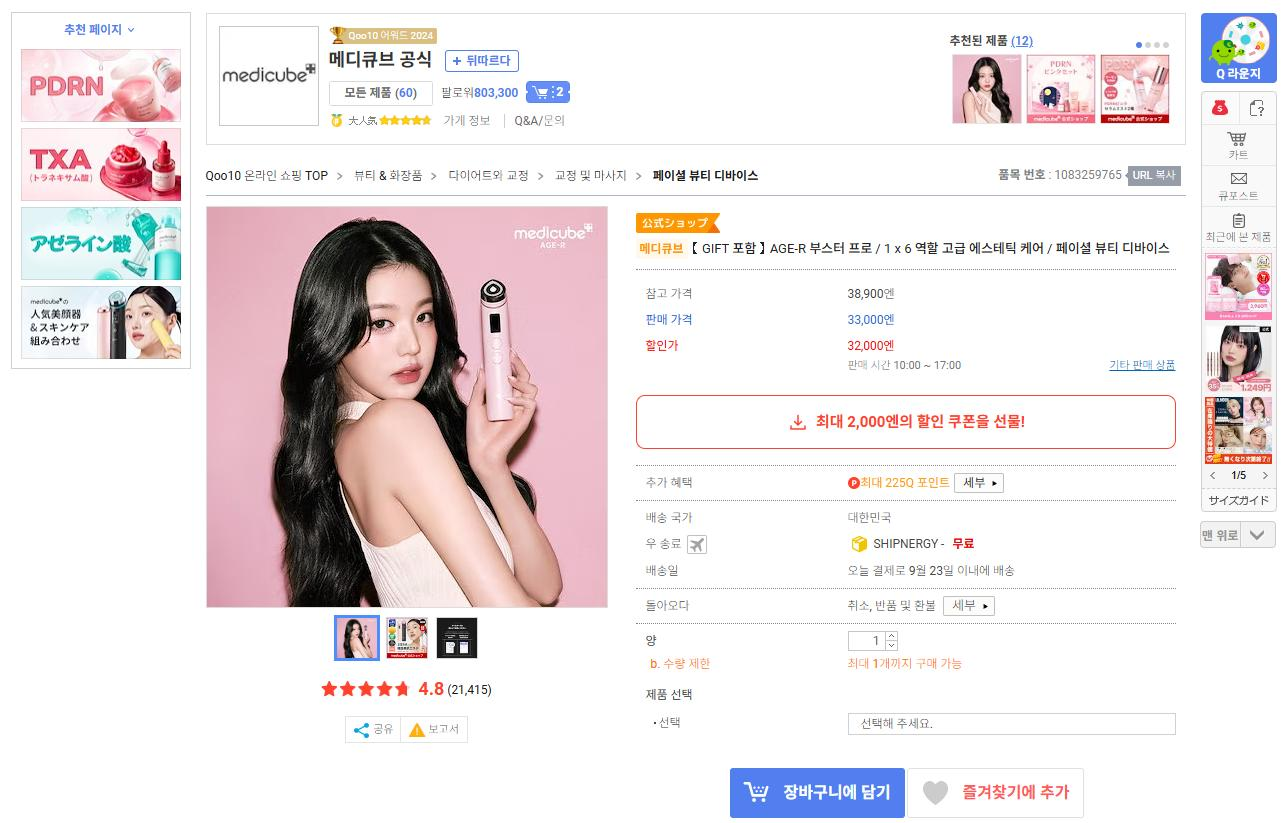button: (730, 766, 904, 823), (849, 710, 1178, 738), (910, 768, 1086, 819), (329, 76, 435, 108), (437, 41, 522, 78), (1201, 517, 1287, 550), (1204, 169, 1275, 206), (1203, 211, 1275, 247), (1206, 128, 1275, 165), (1111, 350, 1183, 379), (437, 618, 479, 665), (940, 590, 1003, 621), (1125, 158, 1186, 189), (333, 617, 376, 660), (385, 617, 427, 659), (402, 718, 468, 743), (508, 108, 576, 132), (516, 78, 576, 105), (344, 713, 398, 741), (954, 466, 1008, 494), (1203, 89, 1239, 125), (441, 108, 492, 132), (1242, 91, 1274, 126), (1206, 468, 1219, 485), (1260, 468, 1271, 482)
checkbox: (842, 627, 911, 653)
popup: (9, 14, 195, 368), (1196, 6, 1287, 88)
